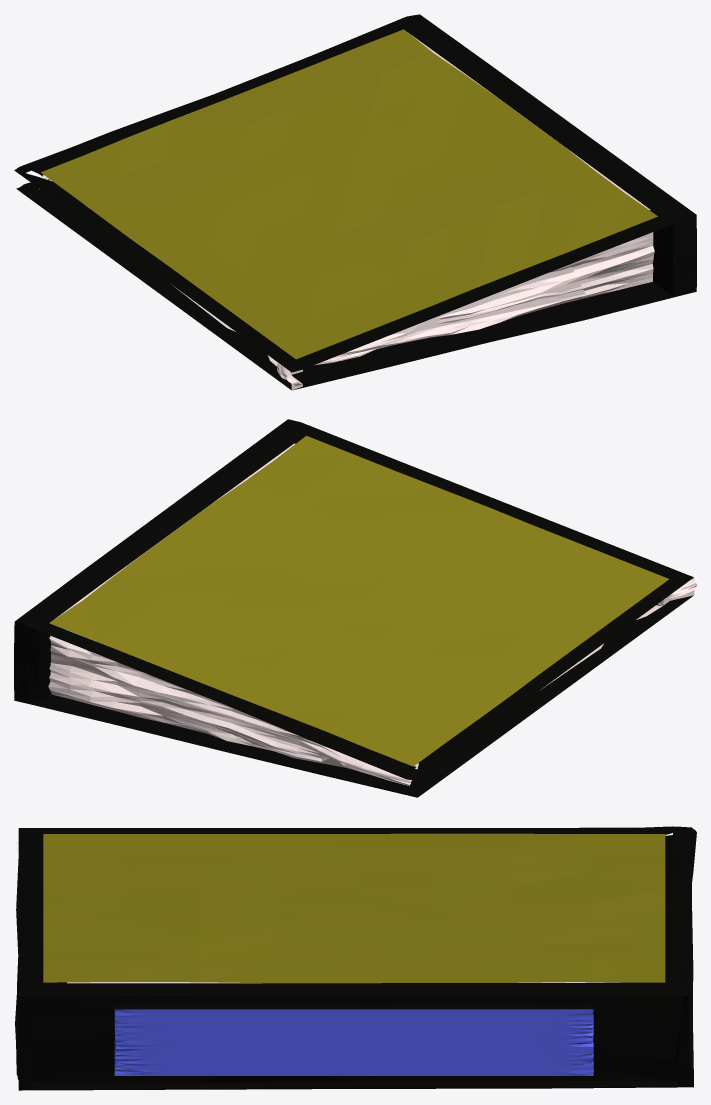
Rendered from PRP_PatientFiles.fbx.
3 renders of one model, top to bottom at view 1: azimuth 30°, elevation 25°; view 2: azimuth 150°, elevation 25°; view 3: azimuth 270°, elevation 25°, orthographic. The views are drawn at different scales.
Parts seen in each view (by area): view 1: Cube.001; view 2: Cube.001; view 3: Cube.001.
Boxes of the visible parts, left/top/right/bottom form: Cube.001: left=14, top=14, right=696, bottom=390; Cube.001: left=14, top=419, right=696, bottom=797; Cube.001: left=14, top=826, right=696, bottom=1090.
Size of the model in its own units: 0.4339 by 0.0777 by 0.5141.
